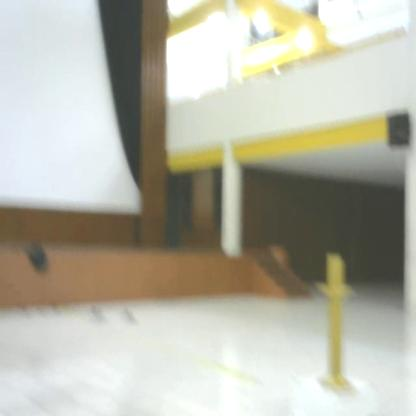pole: (313, 254, 360, 396)
